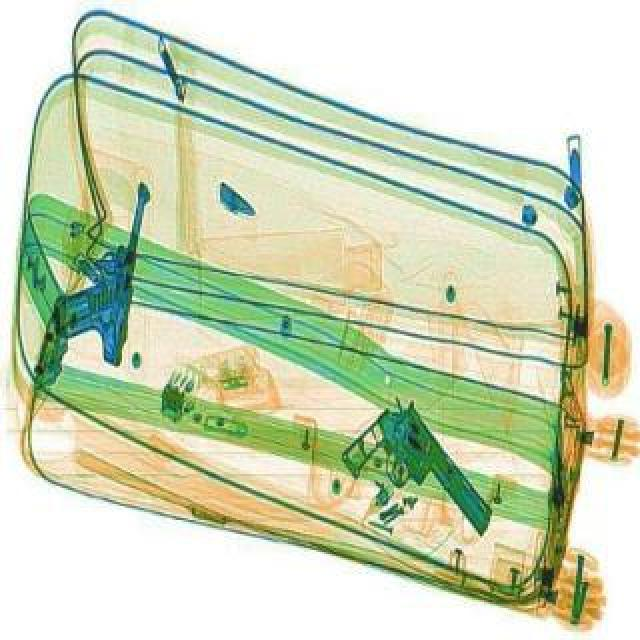gun: (328, 390, 516, 564), (44, 172, 152, 364)
